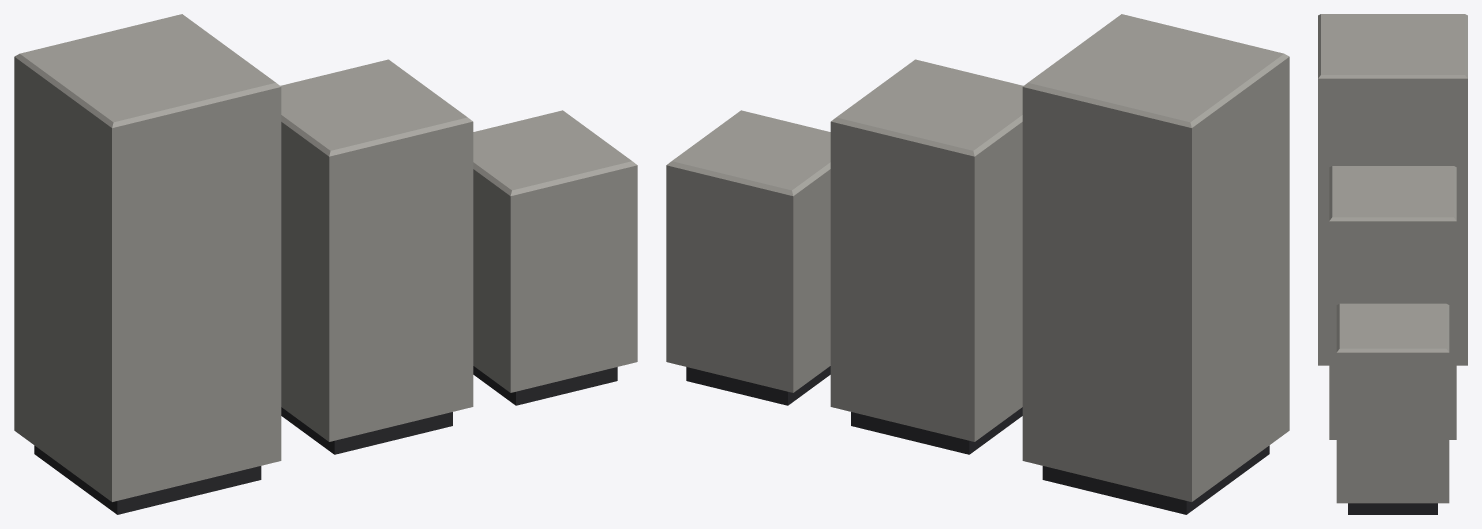
The model's file is FN_Plinth_Display.glb.
3 renders of one model, left to right at view 1: azimuth 30°, elevation 25°; view 2: azimuth 150°, elevation 25°; view 3: azimuth 270°, elevation 25°, orthographic. The views are drawn at different scales.
Parts seen in each view (by area): view 1: FN_Plinth_Display; view 2: FN_Plinth_Display; view 3: FN_Plinth_Display.
Boxes of the visible parts, x1,y1,x2,y2 form: FN_Plinth_Display: [14, 14, 637, 514]; FN_Plinth_Display: [666, 14, 1289, 514]; FN_Plinth_Display: [1318, 14, 1467, 514].
Size of the model in its own units: 1.27 by 0.9 by 0.4.
Materials: 1 (1 with a texture image).
